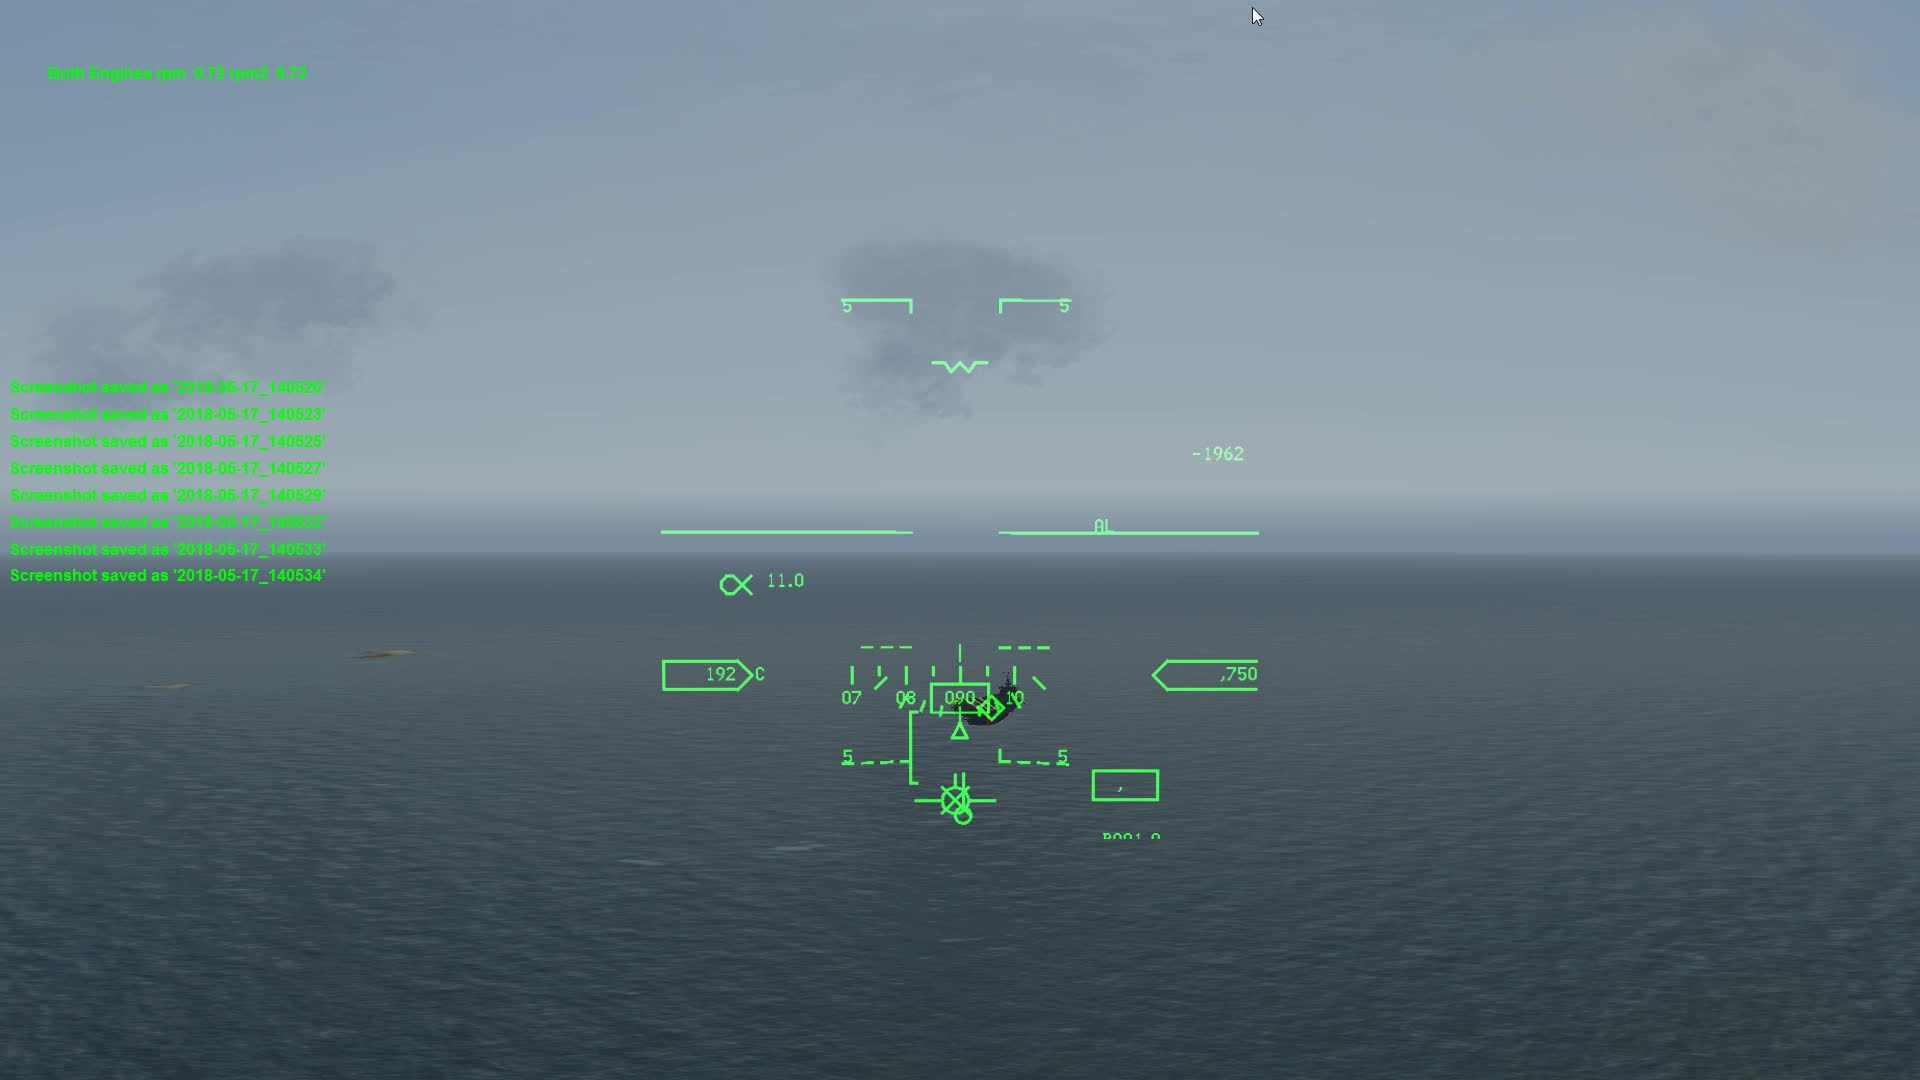speed vector: (918, 764, 1002, 828)
